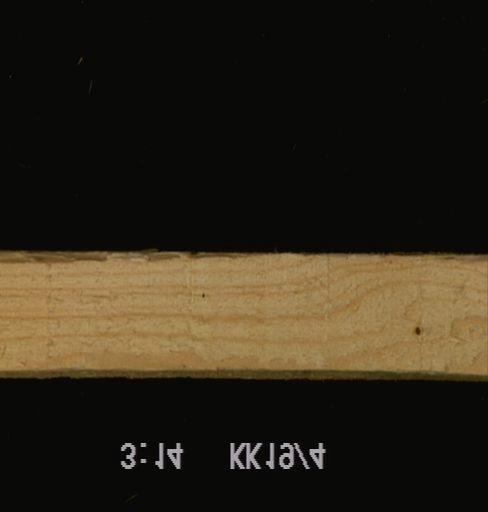small_knot: (411, 323, 422, 339)
